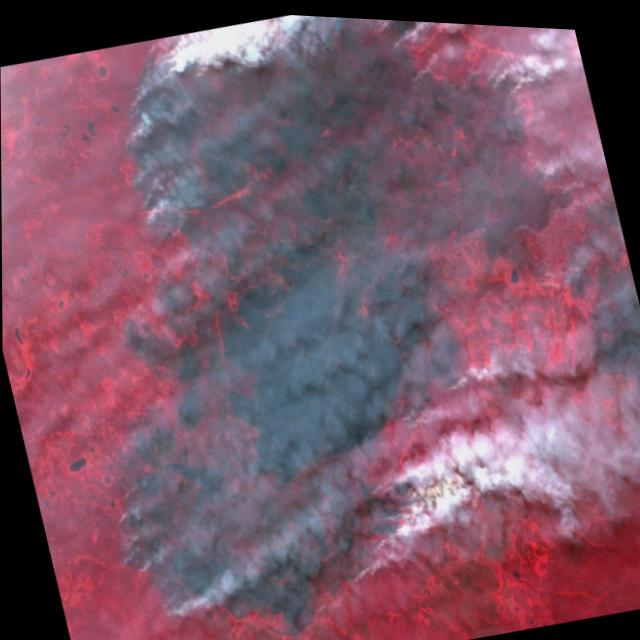fire: (97, 465, 208, 640), (102, 69, 196, 249), (326, 460, 423, 599), (390, 361, 476, 427), (363, 15, 435, 90), (473, 47, 527, 107)
